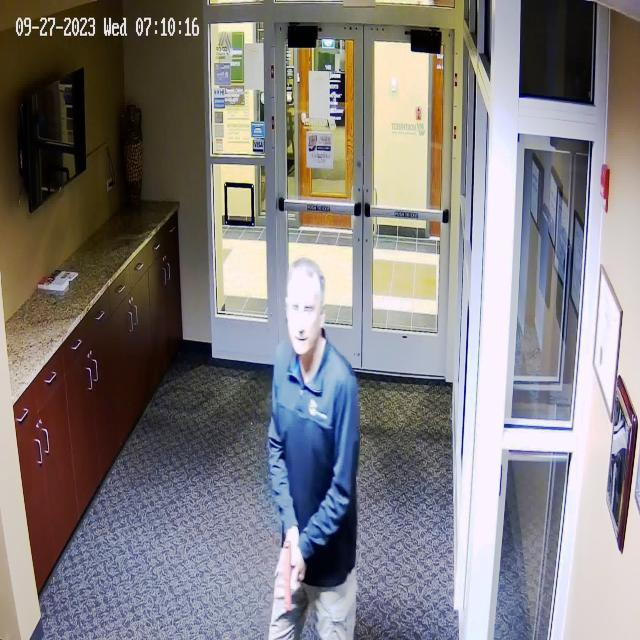Gun: (274, 528, 304, 622)
